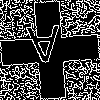A: (25, 25, 63, 73)
